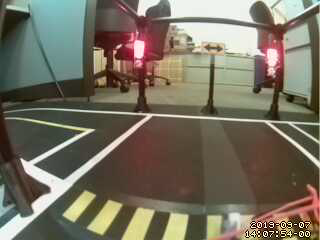Left_Right_sign: (200, 39, 228, 55)
Traffic_light_red: (133, 39, 145, 69), (267, 46, 277, 76)
